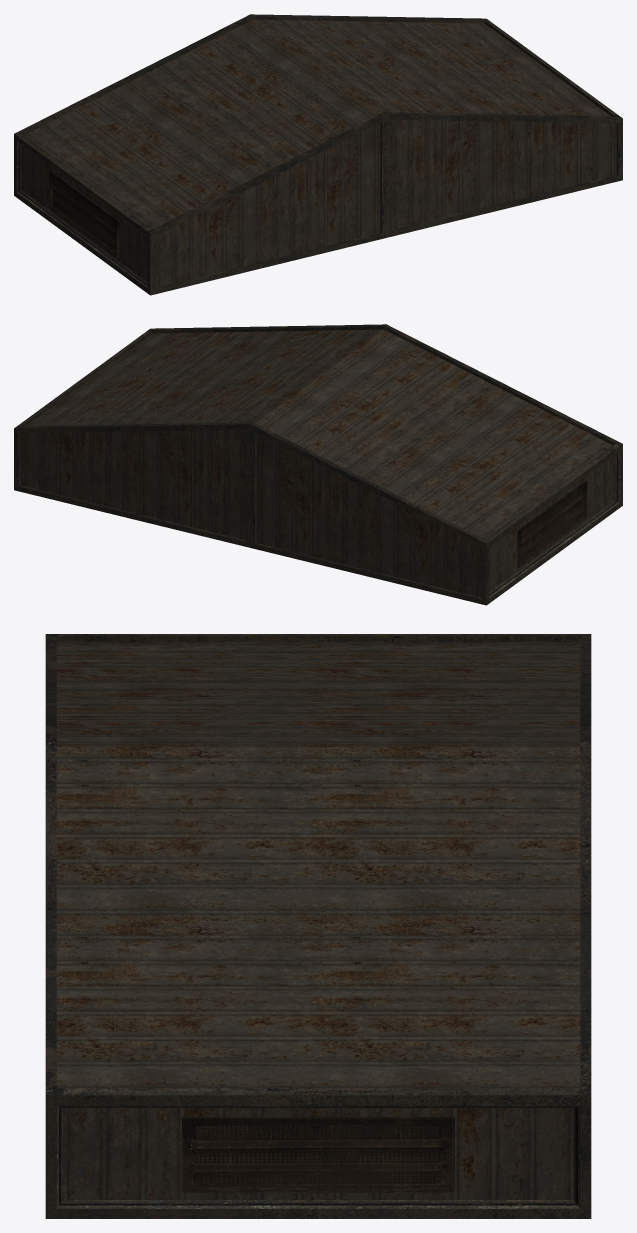
File: roof_mh_4_b_1.dae
The picture shows the model from 3 angles, top to bottom: view 1: azimuth 30°, elevation 25°; view 2: azimuth 150°, elevation 25°; view 3: azimuth 270°, elevation 25°; orthographic projection. The views are drawn at different scales.
Parts seen in each view (by area): view 1: roof_mh_4_b_1; view 2: roof_mh_4_b_1; view 3: roof_mh_4_b_1.
Part boxes in pixels (<box>): roof_mh_4_b_1: <box>14,14,622,295</box>; roof_mh_4_b_1: <box>14,324,622,605</box>; roof_mh_4_b_1: <box>45,634,591,1218</box>.
Bounding box in the file's own units: 8 × 4 × 2.
6 materials, 6 textured.
